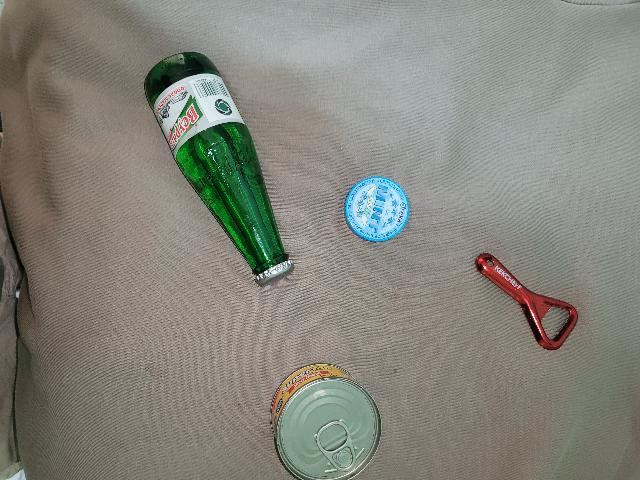Cam: (147, 50, 281, 265)
Metal: (271, 363, 385, 480), (474, 251, 583, 352), (343, 172, 412, 246), (252, 256, 296, 289)
